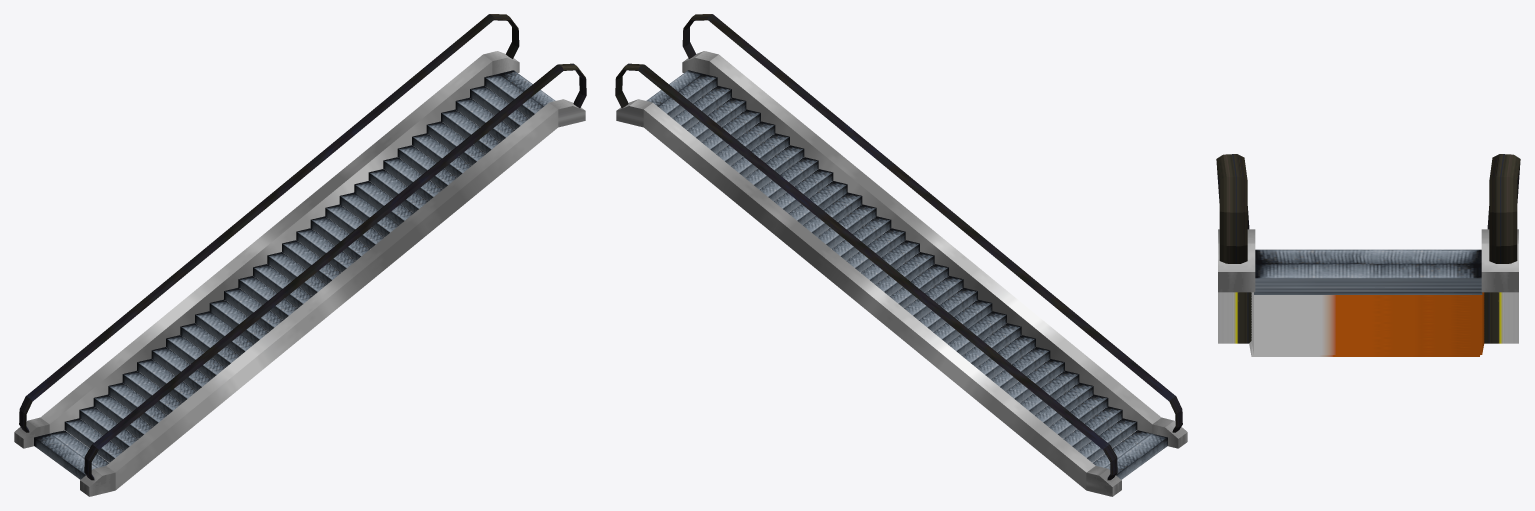
The model's file is escaleramecanica.fbx.
3 views of the same model, side by side, from view 1: azimuth 30°, elevation 25°; view 2: azimuth 150°, elevation 25°; view 3: azimuth 270°, elevation 25° (orthographic). The views are drawn at different scales.
Parts seen in each view (by area): view 1: escaleras, Cylinder.020; view 2: escaleras, Cylinder.020; view 3: Cylinder.020, escaleras.
Boxes of the visible parts, <box> form: escaleras: <box>14,14,586,496</box>; Cylinder.020: <box>34,70,555,479</box>; escaleras: <box>615,14,1187,496</box>; Cylinder.020: <box>646,70,1167,479</box>; Cylinder.020: <box>1249,249,1484,356</box>; escaleras: <box>1216,154,1520,343</box>.
Bounding box in the file's own units: 1285 × 771 × 339.
